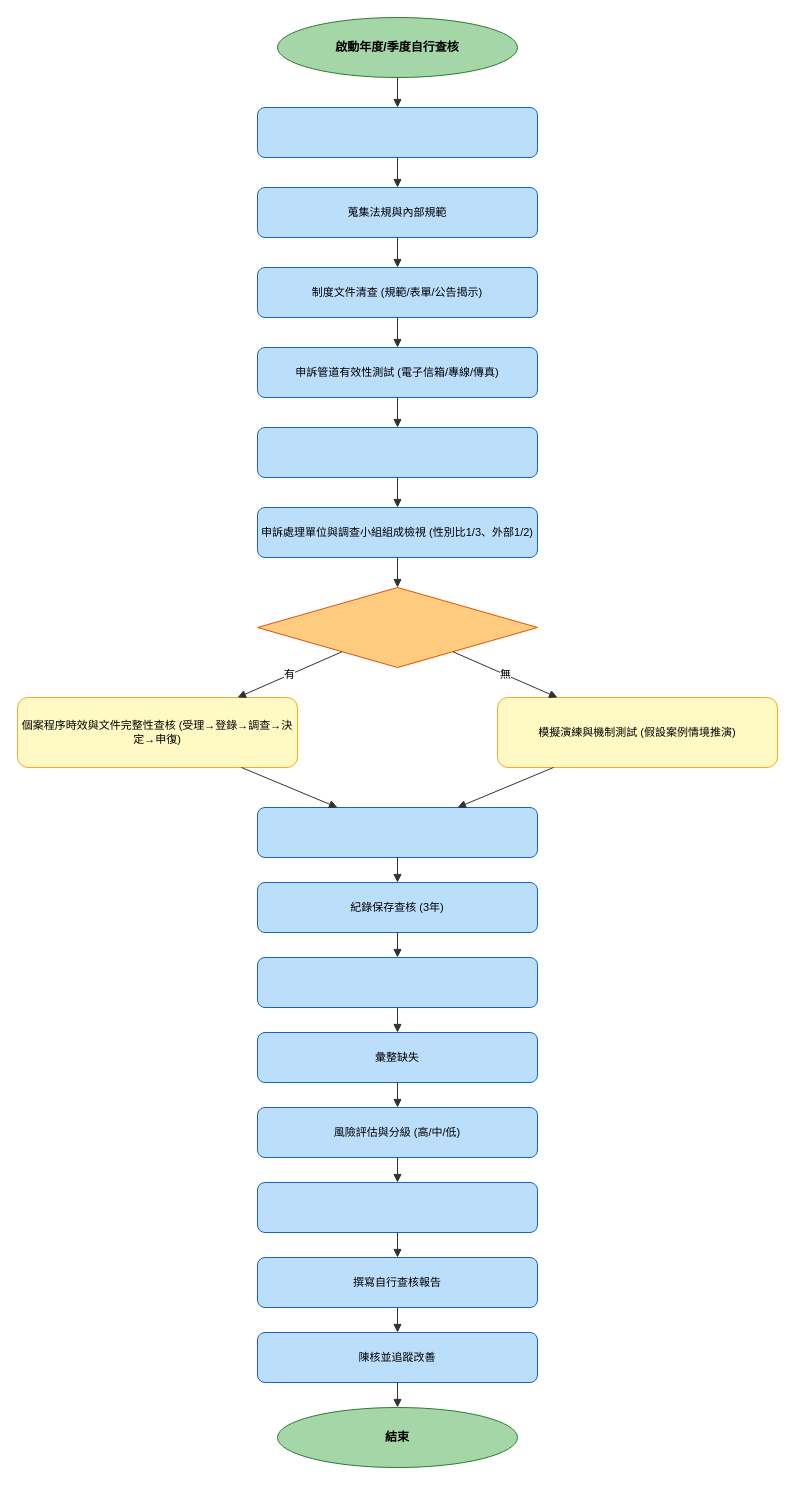
Some shapes in this 795 by 1485 pixel diagram are drawn without their labels. The shapes that lost their labels are listed below. From the top down, each one's centre as x and y in pixels, then its label:
point 397,132: 成立查核小組 (稽核+人資+職安+法遵)
point 397,452: 教育訓練紀錄抽查 (全員及調查人員3小時)
point 397,627: 期間內有無職場霸凌申訴案件?
point 397,832: 期限合規檢核 (10/7/15工作日、2/3/4個月、30日)
point 397,982: 申訴者保護與隱私維護查核
point 397,1207: 提出改善建議
